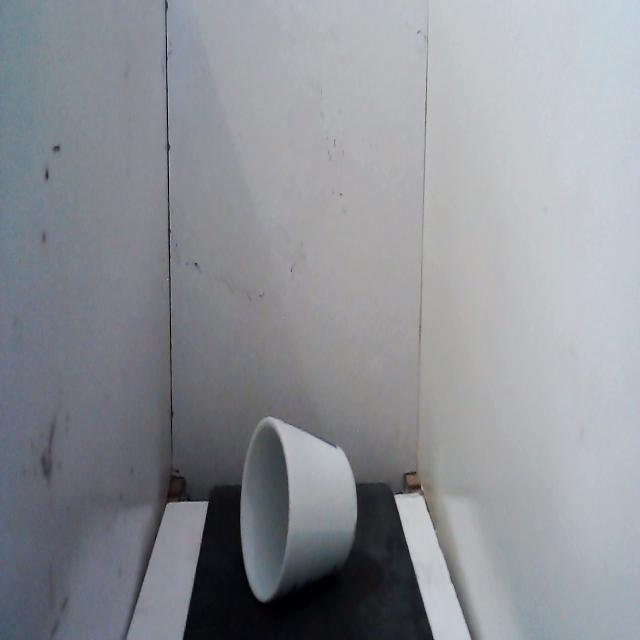vidro: (232, 400, 362, 616)
